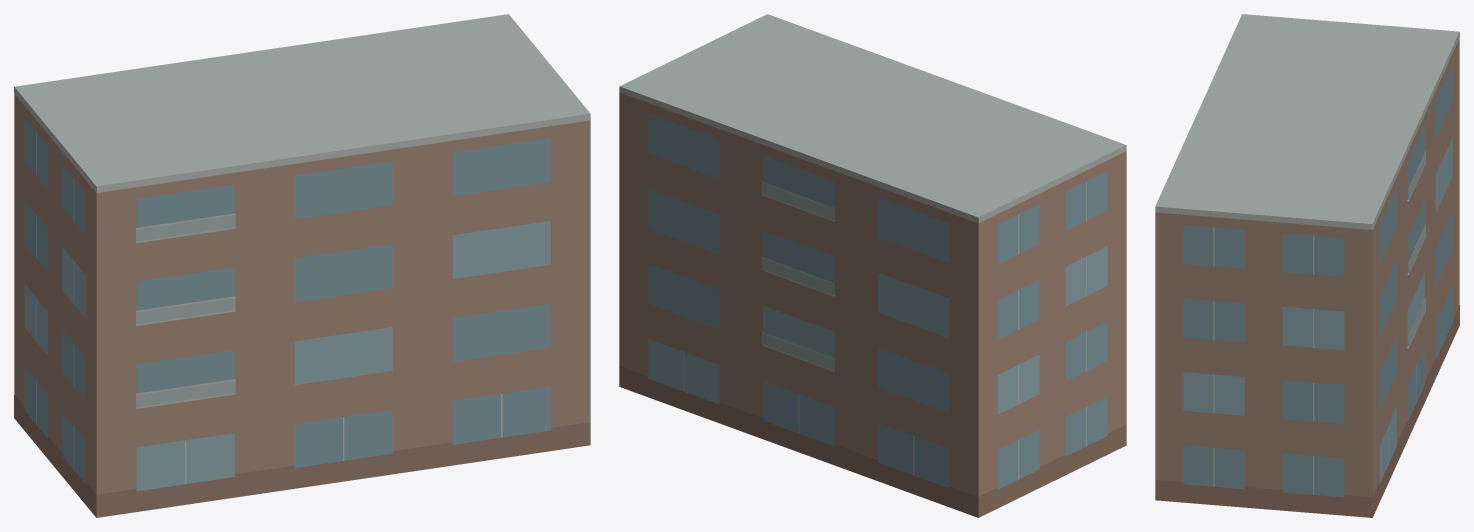
Rendered from residential-959ce6d5-b992-4214-8040-76d587a28b83.glb.
3 renders of one model, left to right at view 1: azimuth 30°, elevation 25°; view 2: azimuth 150°, elevation 25°; view 3: azimuth 270°, elevation 25°, orthographic. The views are drawn at different scales.
Visible parts, largest first — view 1: residential-959ce6d5-b992-4214-8040-76d587a28b83.tmp; view 2: residential-959ce6d5-b992-4214-8040-76d587a28b83.tmp; view 3: residential-959ce6d5-b992-4214-8040-76d587a28b83.tmp.
Part boxes in pixels (<box>): residential-959ce6d5-b992-4214-8040-76d587a28b83.tmp: <box>14,14,590,517</box>; residential-959ce6d5-b992-4214-8040-76d587a28b83.tmp: <box>619,14,1126,517</box>; residential-959ce6d5-b992-4214-8040-76d587a28b83.tmp: <box>1155,14,1459,517</box>.
Size of the model in its own units: 18.73 by 12.2 by 11.48.
